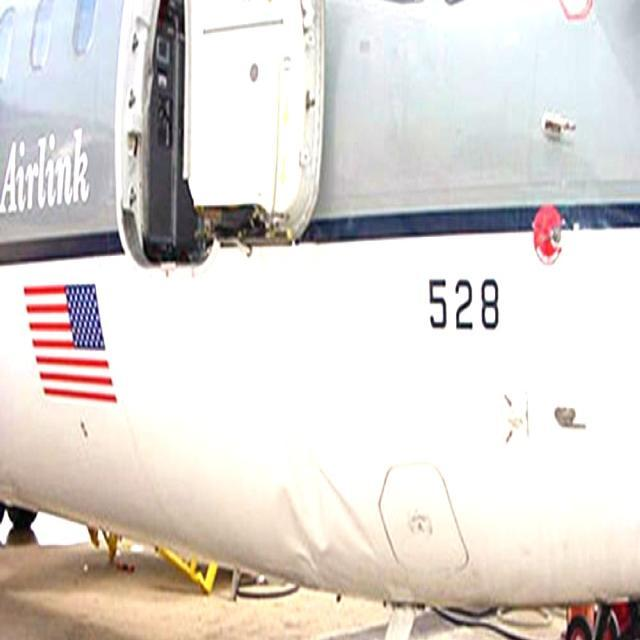dent: (273, 456, 378, 587)
